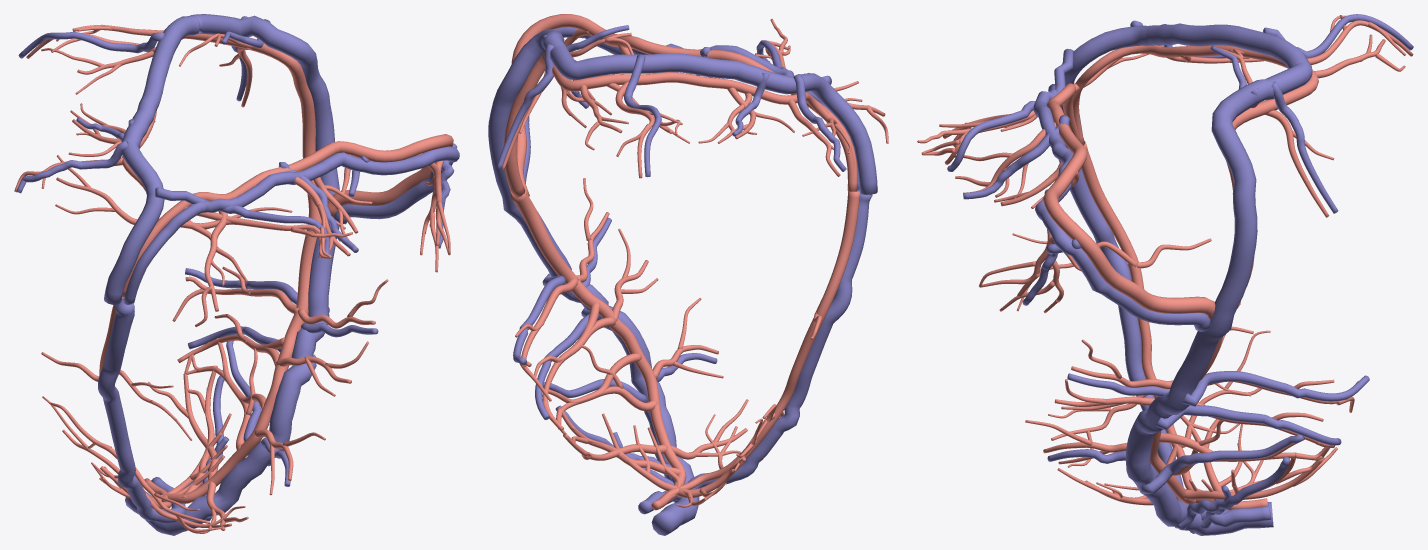
Rendered from vessels_7.glb.
3 views of the same model, side by side, from view 1: azimuth 30°, elevation 25°; view 2: azimuth 150°, elevation 25°; view 3: azimuth 270°, elevation 25° (orthographic). The views are drawn at different scales.
Visible parts, largest first — view 1: Renderer Node; view 2: Renderer Node; view 3: Renderer Node.
Part boxes in pixels (x1,y1,x2,y2): Renderer Node: [14, 14, 459, 535]; Renderer Node: [488, 14, 888, 535]; Renderer Node: [917, 14, 1413, 535].
Bounding box in the file's own units: 98.91 × 118 × 103.
